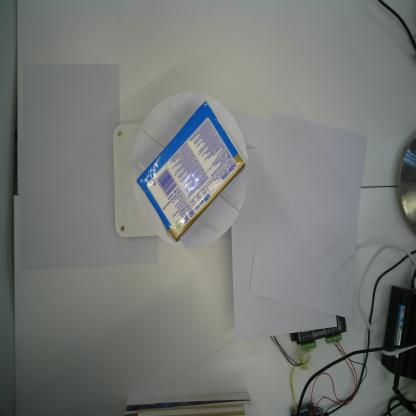Tissue: (134, 98, 244, 243)
